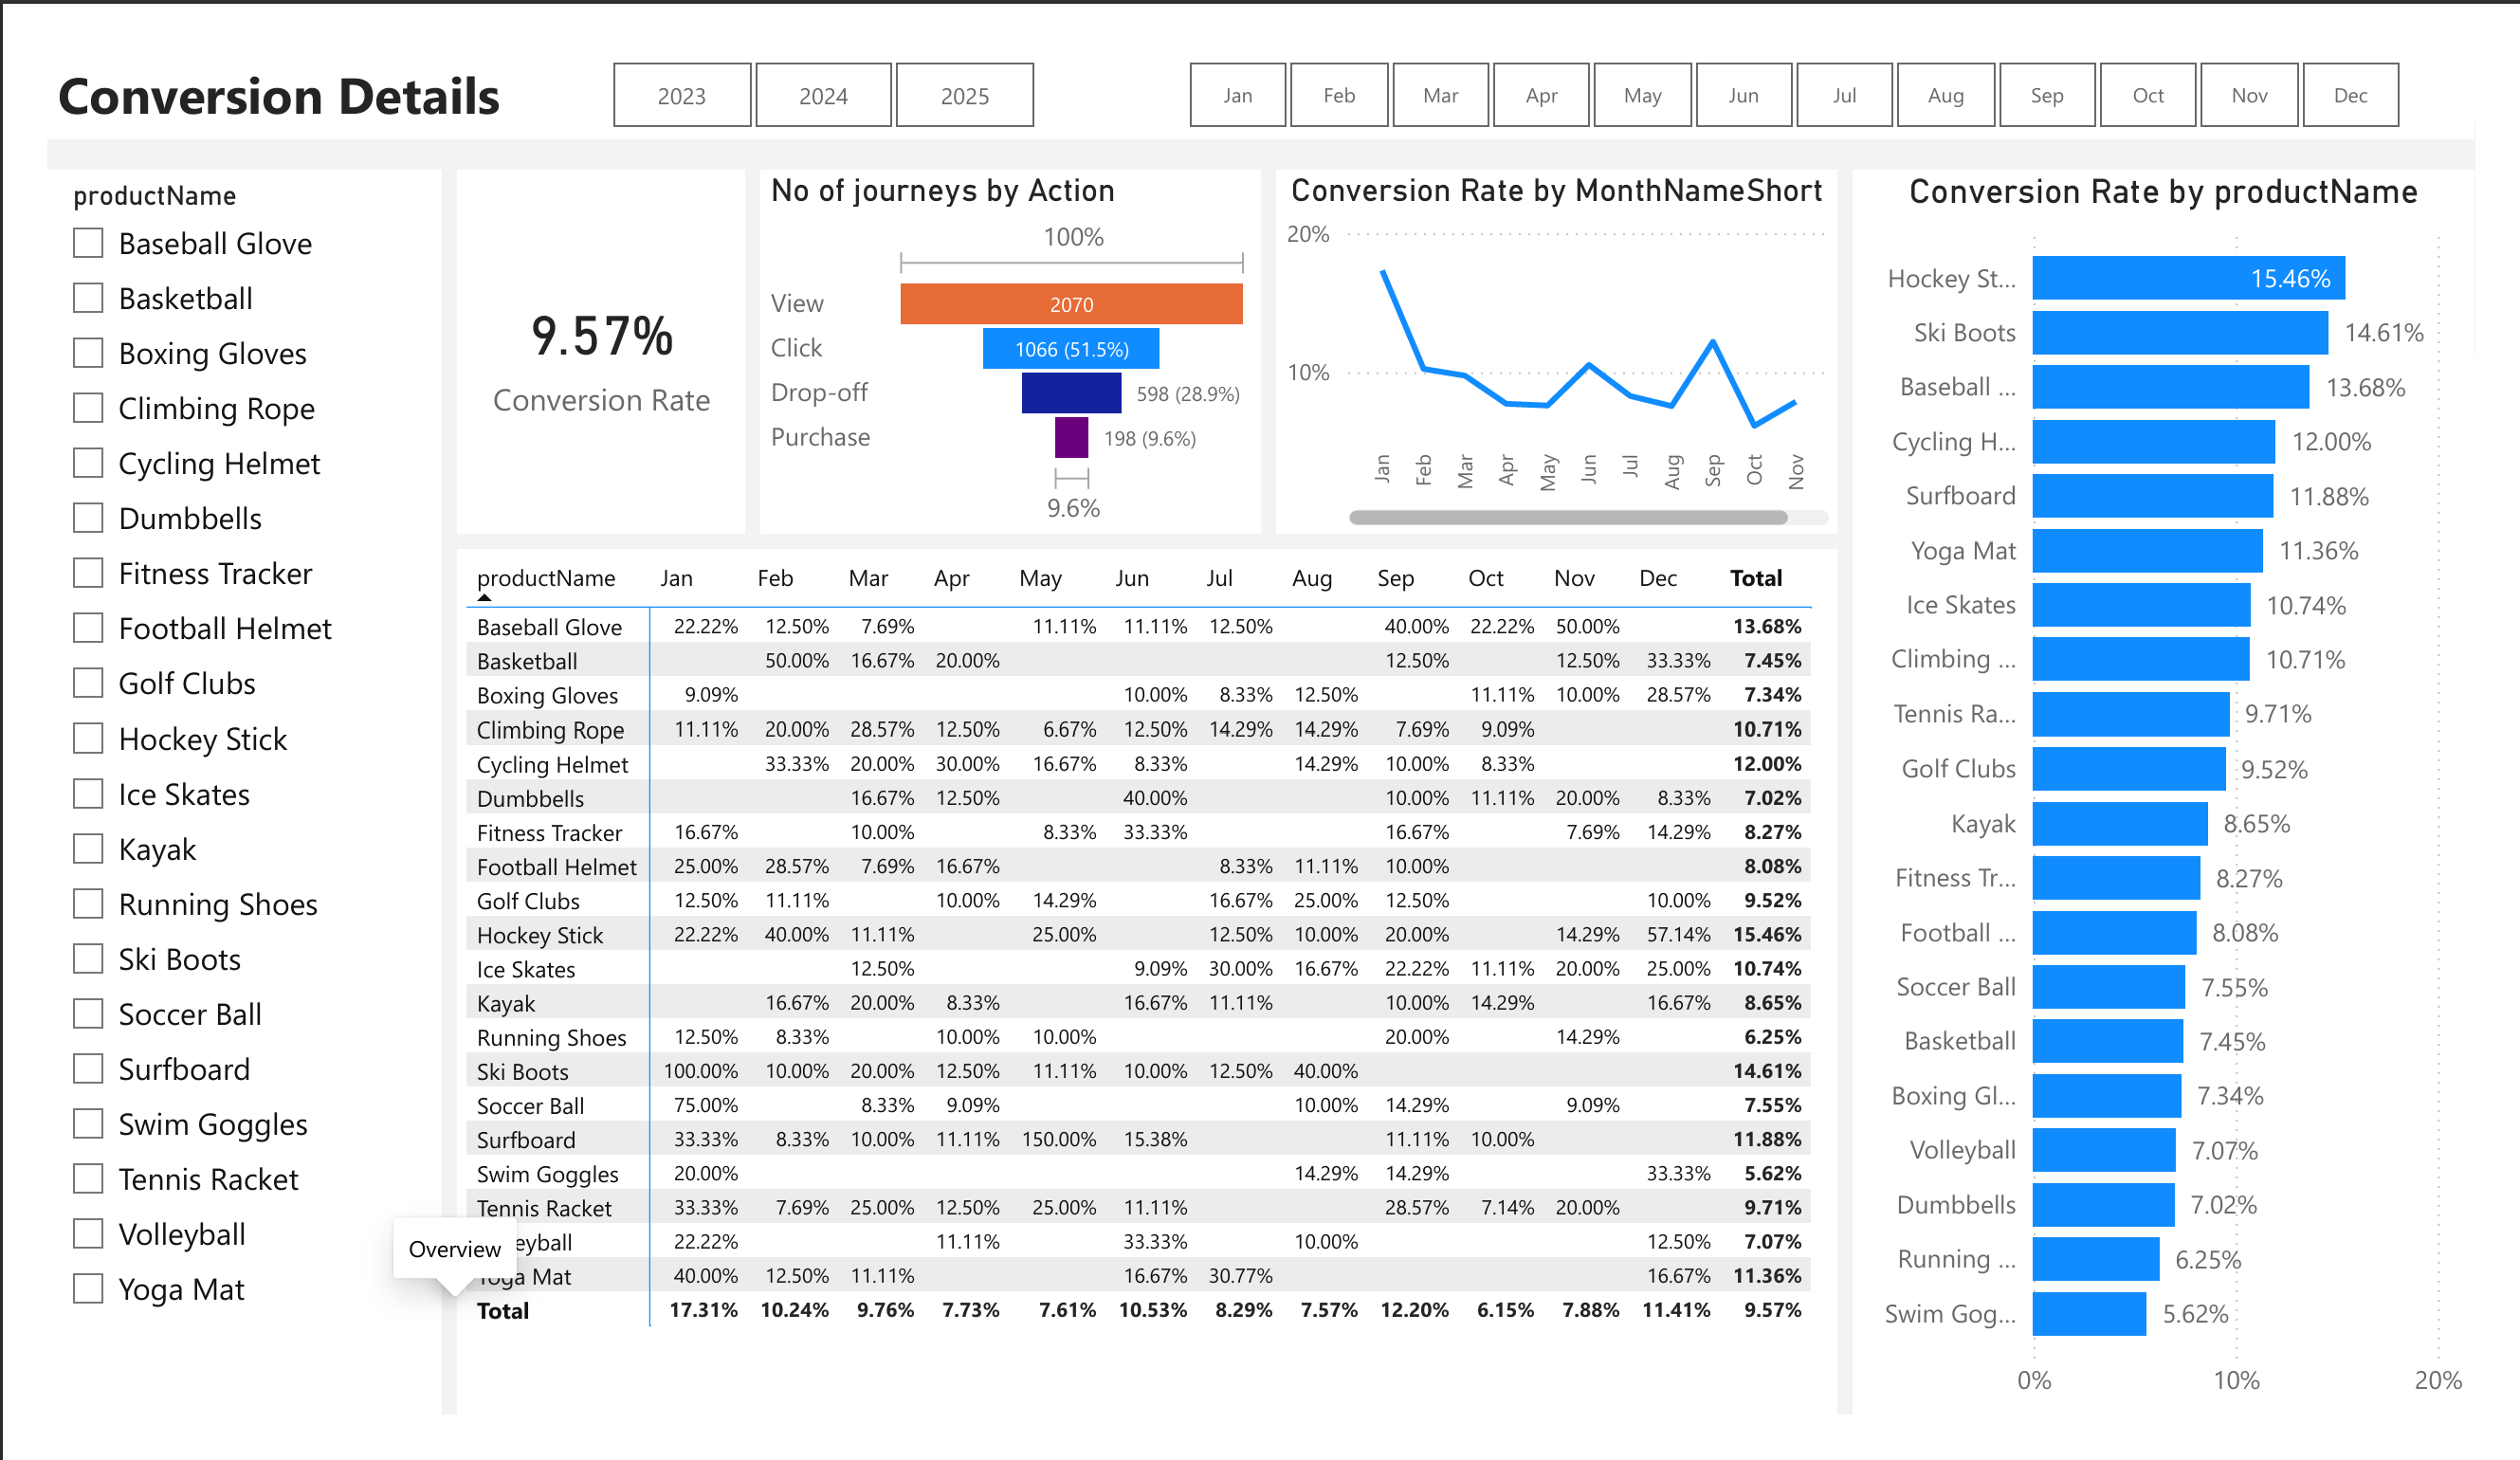

What the dashboard file says about the page in this screenshot:
{"tool":"powerbi","page":{"name":"Conversion Details","canvas":[1280,720],"ordinal":1},"visuals":[{"type":"card","fields":{"Values":["Calculations.Conversion Rate"]},"box":[216,64,152,192],"z":0},{"type":"textbox","box":[0,0,1280,48],"z":1000},{"type":"slicer","fields":{"Values":["dim_products.productName"]},"box":[0,64,208,656],"z":2000},{"type":"slicer","fields":{"Values":["Calendar.Date.Variation.Date Hierarchy.Year"]},"box":[272,0,272,48],"z":3000},{"type":"slicer","fields":{"Values":["Calendar.MonthNameShort"]},"box":[576,0,688,48],"z":4000},{"type":"lineChart","fields":{"Y":["Calculations.Conversion Rate"],"Category":["Calendar.MonthNameShort"]},"box":[648,64,296,192],"z":5000},{"type":"barChart","fields":{"Category":["dim_products.productName"],"Y":["Calculations.Conversion Rate"]},"box":[952,64,328,656],"z":6000},{"type":"pivotTable","fields":{"Rows":["dim_products.productName"],"Values":["Calculations.Conversion Rate"],"Columns":["Calendar.MonthNameShort"]},"box":[216,264,728,456],"z":7000},{"type":"funnel","fields":{"Category":["fact_customer_journey.Action"],"Y":["Calculations.No of journeys"]},"box":[376,64,264,192],"z":8000}]}

Visuals, with their boxes in screenshot pixels (x1, y1, x2, y2), scaled from the page's 1280x720 canvas onto the 2520x1460 screenshot:
card - Calculations.Conversion Rate: locate(426, 130, 724, 520)
textbox: locate(0, 0, 2519, 98)
slicer - dim_products.productName: locate(0, 130, 410, 1459)
slicer - Calendar.Date.Variation.Date Hierarchy.Year: locate(536, 0, 1071, 98)
slicer - Calendar.MonthNameShort: locate(1134, 0, 2489, 98)
lineChart - Calculations.Conversion Rate x Calendar.MonthNameShort: locate(1276, 130, 1858, 520)
barChart - dim_products.productName x Calculations.Conversion Rate: locate(1874, 130, 2519, 1459)
pivotTable - dim_products.productName x Calculations.Conversion Rate: locate(426, 536, 1858, 1459)
funnel - fact_customer_journey.Action x Calculations.No of journeys: locate(740, 130, 1260, 520)
